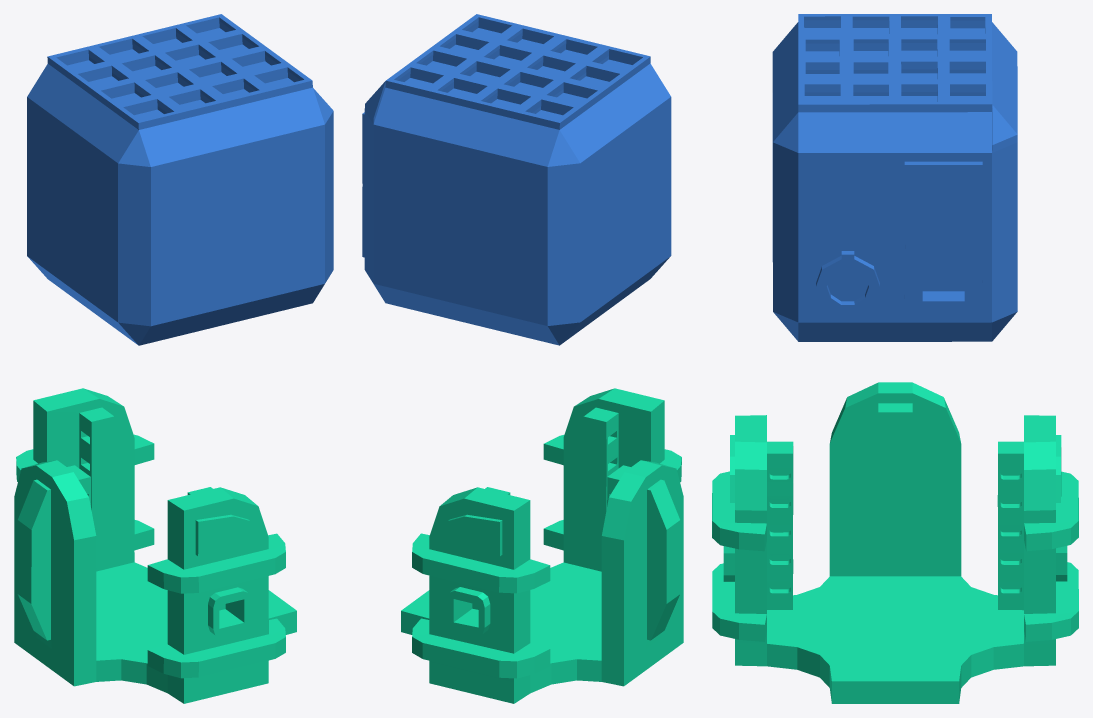
The model's file is Battery.fbx.
The picture shows the model from 3 angles, left to right: view 1: azimuth 30°, elevation 25°; view 2: azimuth 150°, elevation 25°; view 3: azimuth 270°, elevation 25°; orthographic projection. The views are drawn at different scales.
Visible parts, largest first — view 1: Batareya, Plane; view 2: Batareya, Plane; view 3: Plane, Batareya.
Boxes of the visible parts, x1,y1,x2,y2 form: Batareya: (27,14,333,345); Plane: (14,388,296,703); Batareya: (362,14,671,345); Plane: (401,388,683,703); Plane: (712,382,1078,703); Batareya: (772,14,1017,341).
Bounding box in the file's own units: 115 × 230 × 127.
